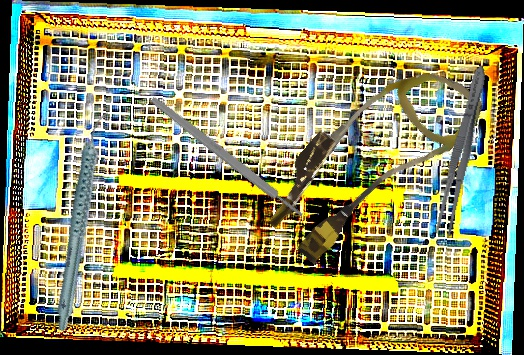Cannula: (251, 34, 488, 283)
Dressing Forceps: (431, 62, 493, 240)
Handpiece: (12, 108, 154, 335)
Scalpel Handle: (148, 94, 306, 221)
